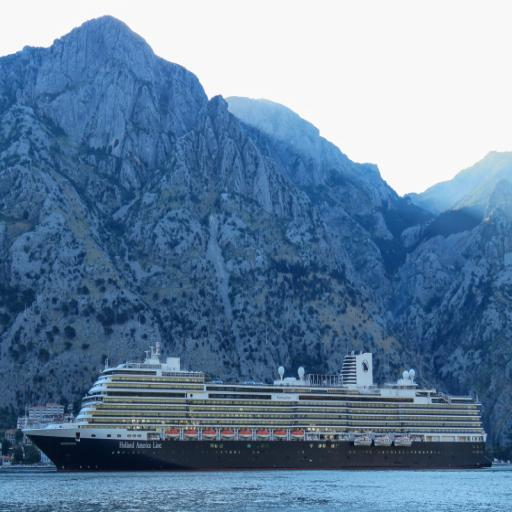cruises: (22, 334, 500, 475)
